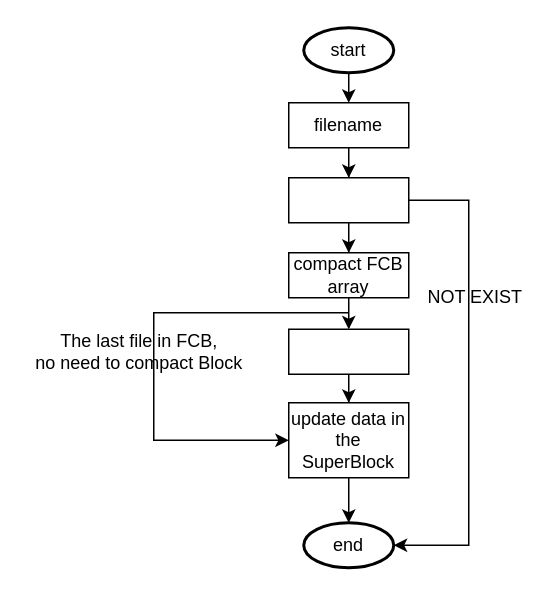
This 560x594 diagram has some shape labels left out. Here are the shapes that lost their labels. From the top down, the centre of each, then its label:
At (x=348, y=199): "fp".
At (x=348, y=351): "compact blocks".
